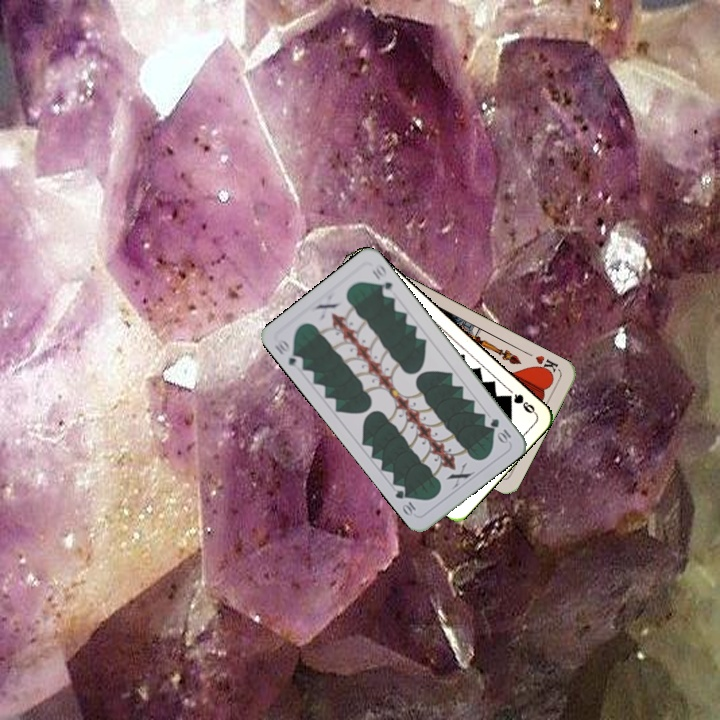G10: (271, 334, 306, 372), (486, 414, 514, 446)
G9: (501, 389, 539, 417)
HK: (531, 351, 562, 378)
